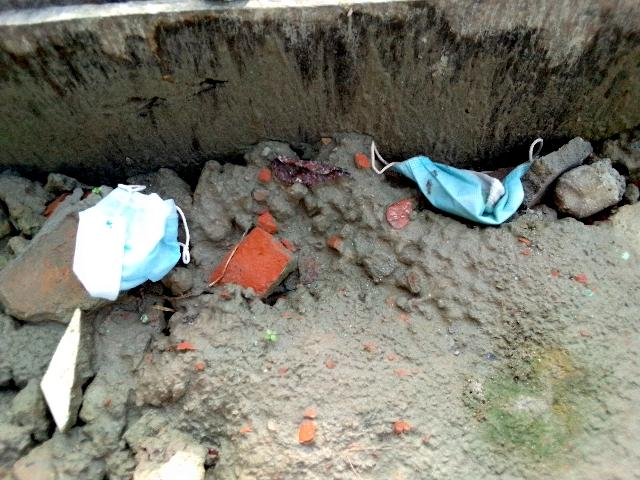mask: (405, 121, 537, 229), (85, 179, 175, 291)
